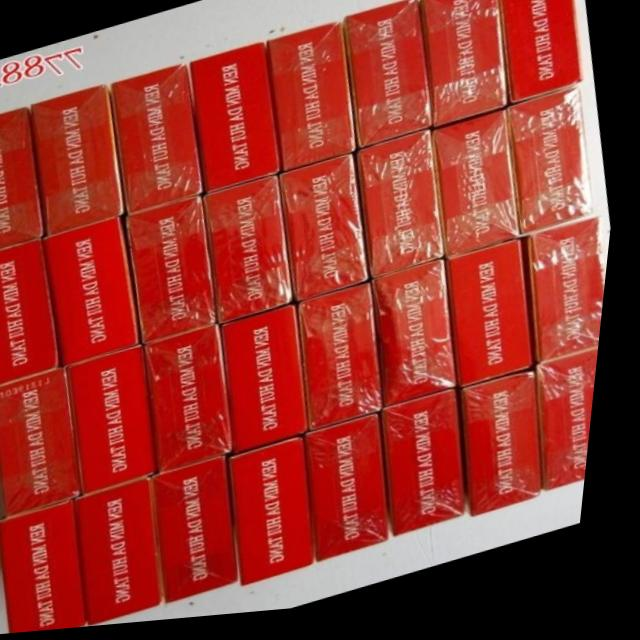box: (127, 197, 225, 349), (31, 86, 127, 238), (112, 66, 207, 219), (51, 217, 147, 368), (205, 177, 301, 328), (190, 46, 283, 199), (452, 245, 545, 396), (74, 347, 166, 498), (358, 137, 451, 286), (282, 157, 374, 307), (150, 330, 243, 478), (270, 27, 361, 178), (434, 117, 526, 266), (377, 267, 469, 416), (228, 308, 318, 460), (345, 5, 434, 156), (87, 478, 176, 628), (0, 368, 88, 518), (510, 96, 598, 245), (305, 288, 392, 438), (240, 441, 326, 592), (315, 419, 401, 570), (391, 396, 478, 544), (164, 460, 251, 607), (527, 226, 611, 376), (471, 377, 554, 526), (8, 501, 100, 635), (421, 0, 511, 136), (0, 240, 69, 388), (501, 0, 583, 114), (548, 360, 607, 504), (0, 106, 48, 250)
